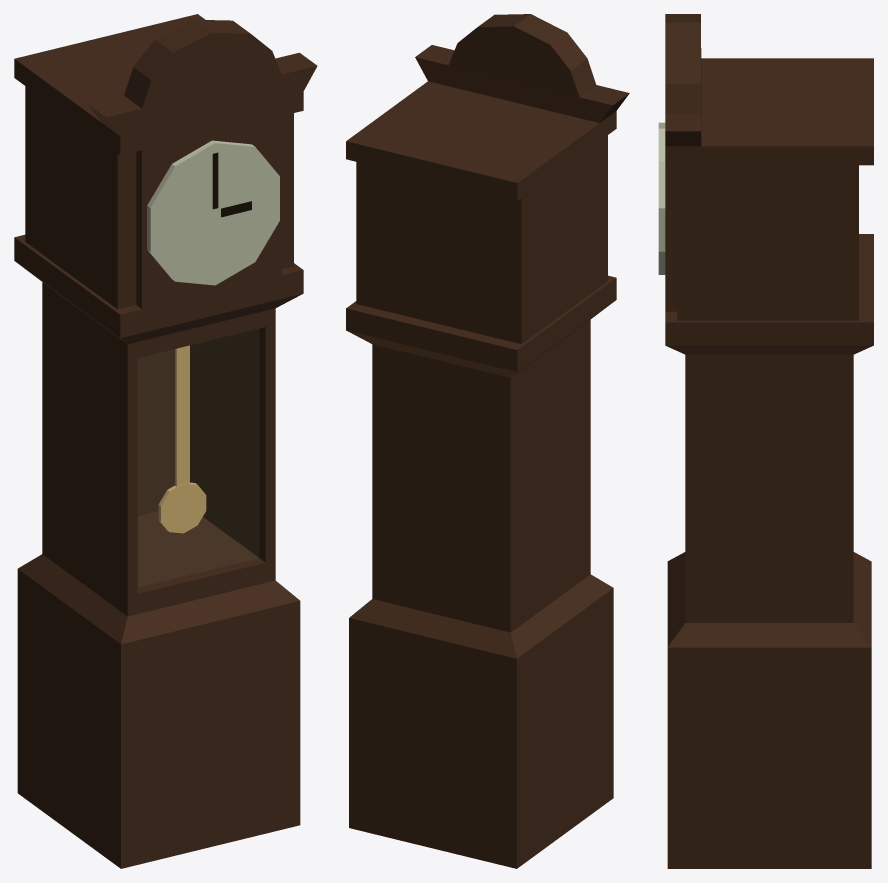
File: grandfather clock.fbx
3 renders of one model, left to right at view 1: azimuth 30°, elevation 25°; view 2: azimuth 150°, elevation 25°; view 3: azimuth 270°, elevation 25°, orthographic. The views are drawn at different scales.
Visible parts, largest first — view 1: grandfather clock, grandfather clock pendulum; view 2: grandfather clock; view 3: grandfather clock.
Part boxes in pixels (x1,y1,x2,y2): grandfather clock: (14,14,317,868); grandfather clock pendulum: (158,345,206,533); grandfather clock: (346,14,629,868); grandfather clock: (658,14,873,868).
Size of the model in its own units: 66.68 by 59.77 by 245.
